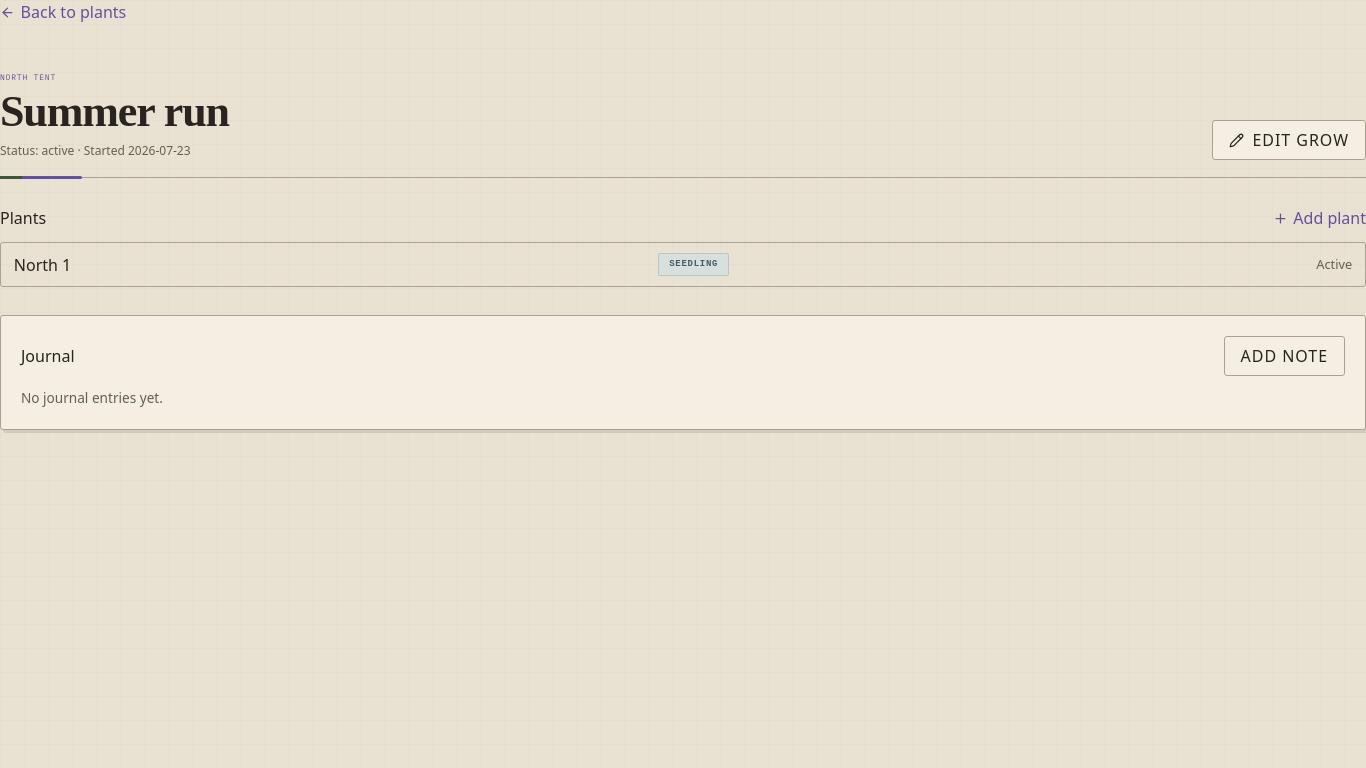
Test: GrowDetailContent › opens the edit form
expect the heading "Summer run" is shown: met, box 0,90 -> 229,134
Click the button "Edit grow" at (1289, 140), box 1212,120 -> 1365,160
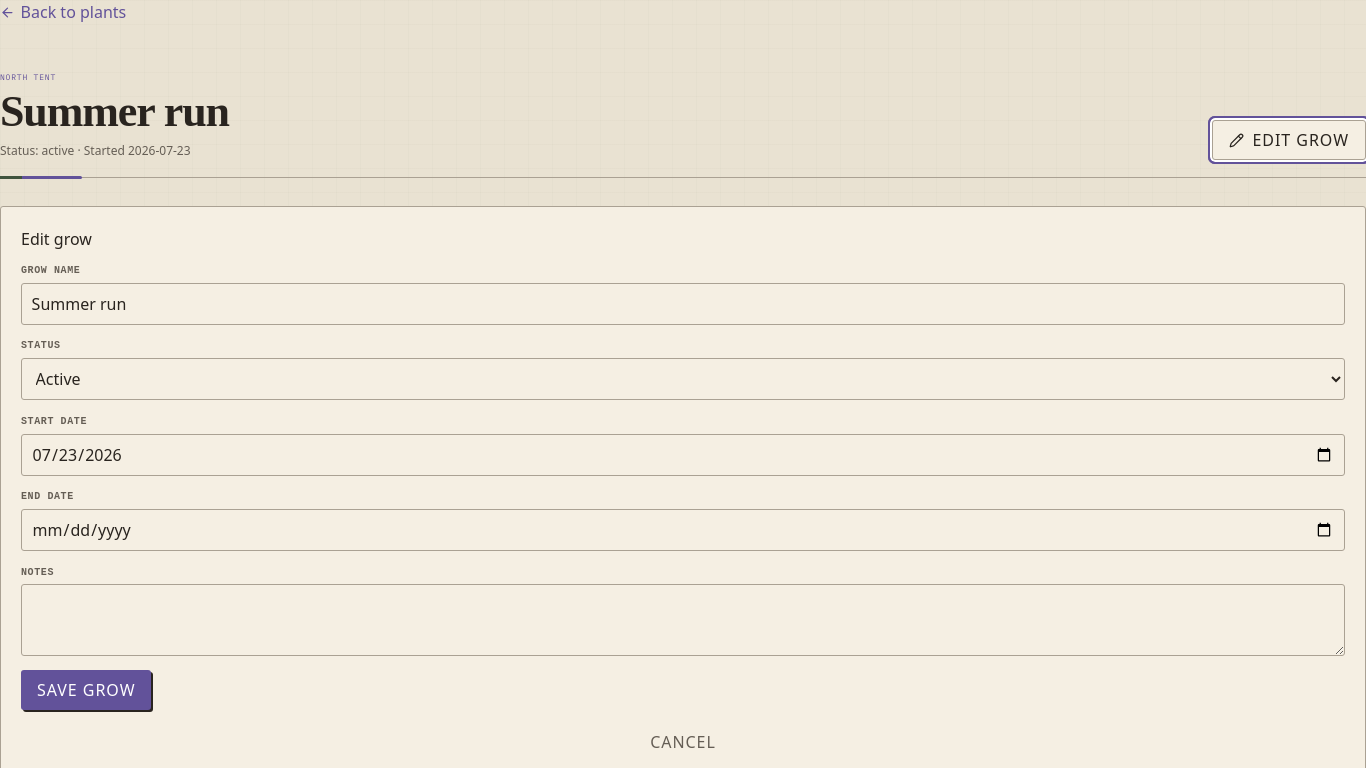
expect the heading "Edit grow" is shown: met, box 21,228 -> 92,250
expect the button "Save grow" is shown: met, box 21,670 -> 152,710
